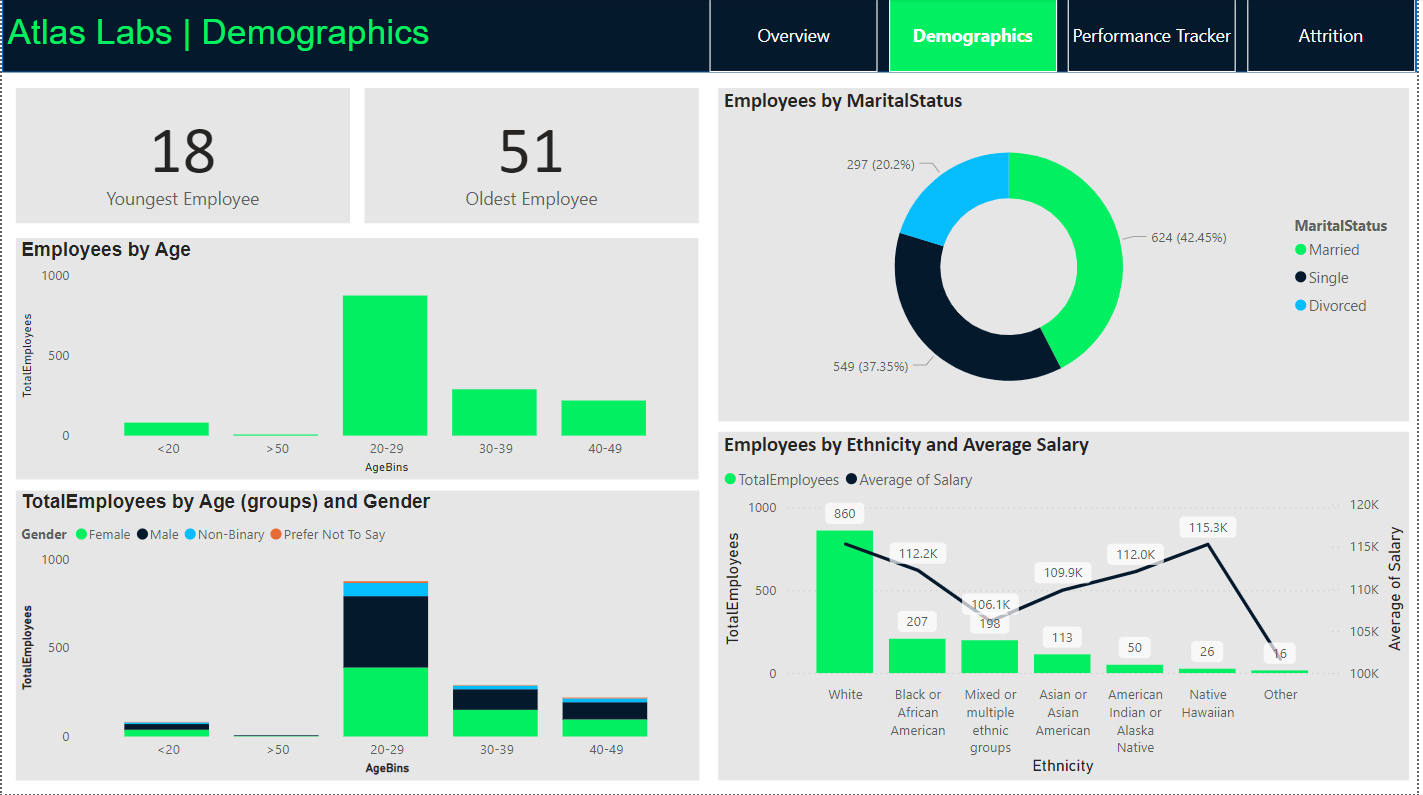

Layout of this report page (visuals, bound fields, positions):
{"tool":"powerbi","page":{"name":"Demographics","canvas":[1280,720],"ordinal":1},"visuals":[{"type":"shape","box":[0,0,1280,67.5],"z":0},{"type":"textbox","box":[0,7.5,463.8,52.5],"z":1000},{"type":"pageNavigator","box":[640,0,640,67.5],"z":2000},{"type":"card","fields":{"Values":["Employee.Youngest Employee"]},"box":[12.5,81.2,302.5,122.5],"z":3000},{"type":"card","fields":{"Values":["Employee.Oldest Employee"]},"box":[327.5,81.2,302.5,122.5],"z":4000},{"type":"clusteredColumnChart","title":"Employees by Age ","fields":{"Y":["Employee.TotalEmployees"],"Category":["Employee.Age (groups)"]},"box":[12.5,217.5,617.5,218.8],"z":5000},{"type":"columnChart","fields":{"Y":["Employee.TotalEmployees"],"Category":["Employee.Age (groups)"],"Series":["Employee.Gender"]},"box":[12.5,445,618.8,262.5],"z":6000},{"type":"donutChart","title":"Employees by MaritalStatus","fields":{"Y":["Employee.TotalEmployees"],"Category":["Employee.MaritalStatus"]},"box":[647.5,81.2,625,301.2],"z":7000},{"type":"lineClusteredColumnComboChart","title":"Employees by Ethnicity and Average Salary ","fields":{"Y":["Employee.TotalEmployees"],"Category":["Employee.Ethnicity"],"Y2":["Avg(Employee.Salary)"]},"box":[647.5,392.5,625,315],"z":8000}]}

Visuals, with their boxes in screenshot pixels (x1, y1, x2, y2), scaled from the page's 1280x720 canvas onto the 1423x795 screenshot:
shape: (0,0,1422,75)
textbox: (0,8,516,66)
pageNavigator: (712,0,1422,75)
card - Employee.Youngest Employee: (14,90,350,225)
card - Employee.Oldest Employee: (364,90,700,225)
"Employees by Age " clusteredColumnChart: (14,240,700,482)
columnChart - Employee.TotalEmployees x Employee.Age (groups): (14,491,702,781)
"Employees by MaritalStatus" donutChart: (720,90,1415,422)
"Employees by Ethnicity and Average Salary " lineClusteredColumnComboChart: (720,433,1415,781)
